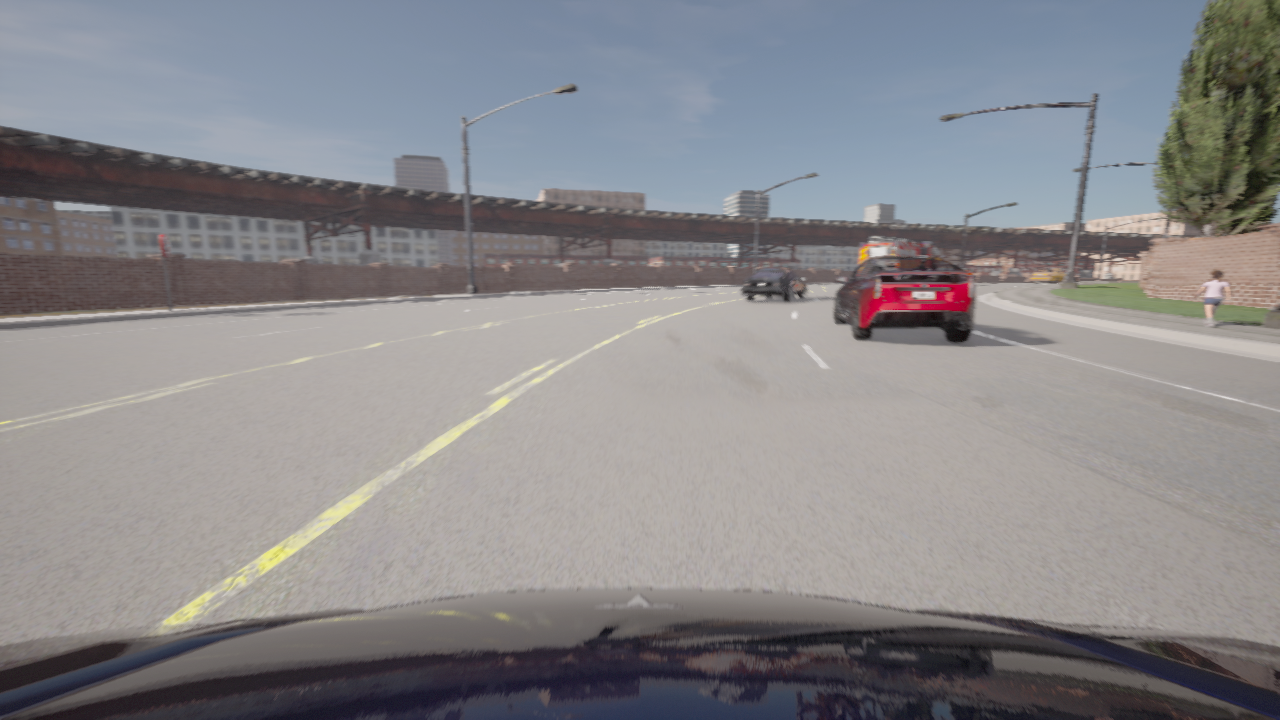cyclist: (0, 588, 1279, 719), (835, 255, 975, 342), (858, 236, 939, 265), (742, 268, 807, 301), (1031, 267, 1065, 282)
pedestrian: (1194, 271, 1230, 326)
